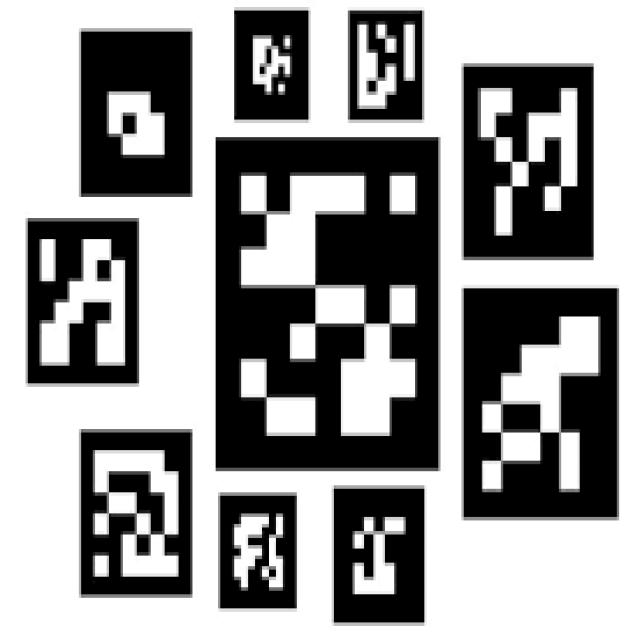aruco: (210, 113, 449, 478), (453, 268, 632, 541), (457, 19, 640, 270), (8, 185, 185, 407), (28, 408, 197, 640), (68, 0, 204, 226), (315, 466, 439, 621), (341, 0, 439, 174), (181, 486, 308, 618), (218, 0, 311, 120)
